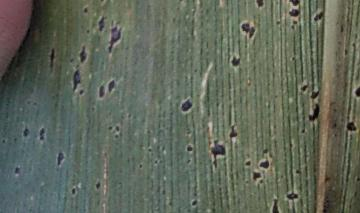tarspot: (209, 139, 226, 168), (108, 26, 121, 53), (71, 68, 82, 93), (242, 22, 256, 39), (47, 48, 57, 71), (308, 103, 319, 123), (97, 14, 106, 33), (106, 77, 115, 95), (182, 98, 192, 113), (346, 121, 358, 133), (80, 45, 87, 64), (289, 7, 301, 18), (229, 56, 242, 66), (56, 152, 64, 168), (229, 124, 238, 138), (252, 170, 262, 182), (38, 126, 45, 142), (272, 197, 279, 213), (97, 86, 106, 98), (286, 191, 298, 200), (313, 11, 323, 21), (310, 89, 320, 99), (287, 1, 301, 8), (259, 160, 269, 169), (23, 127, 31, 138), (255, 1, 266, 9), (338, 22, 345, 33), (13, 166, 20, 176), (301, 84, 308, 94), (94, 182, 102, 190), (190, 199, 198, 207), (185, 145, 193, 153), (260, 148, 269, 155), (355, 85, 360, 97), (245, 159, 252, 167), (114, 124, 120, 133), (25, 99, 32, 106), (146, 146, 153, 153), (294, 168, 301, 175), (71, 187, 76, 196), (1, 138, 7, 145), (79, 88, 85, 95), (113, 133, 120, 139), (137, 162, 143, 169), (275, 19, 282, 25), (290, 23, 296, 30), (300, 127, 306, 134), (68, 57, 74, 63), (32, 101, 38, 107), (107, 125, 113, 131), (291, 55, 295, 63), (83, 7, 88, 13), (85, 29, 91, 34), (153, 159, 158, 165), (355, 176, 360, 182), (293, 20, 297, 25)
